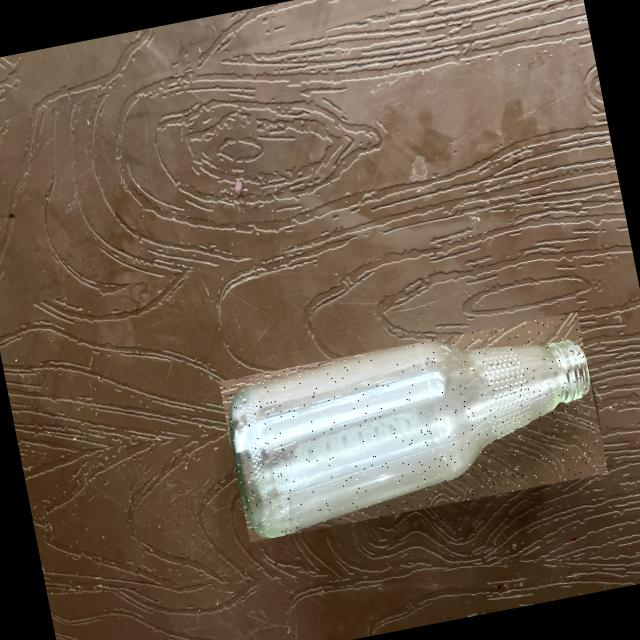Glass_Bottle: (230, 340, 589, 537)
